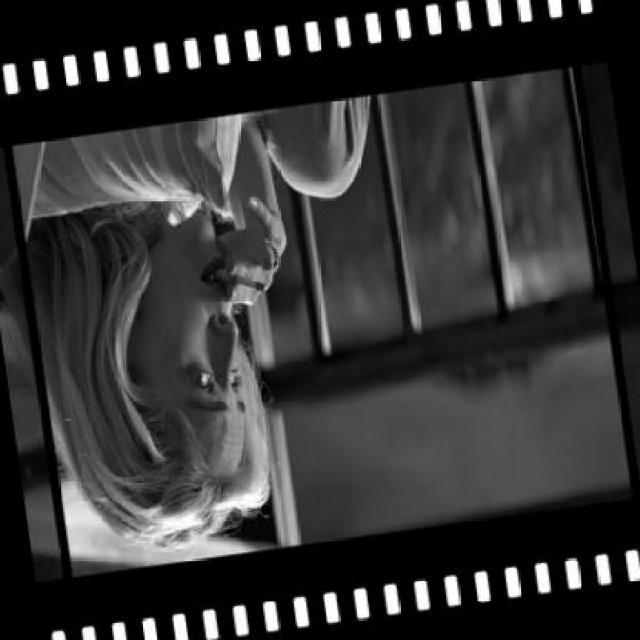smoke: (209, 258, 263, 298)
